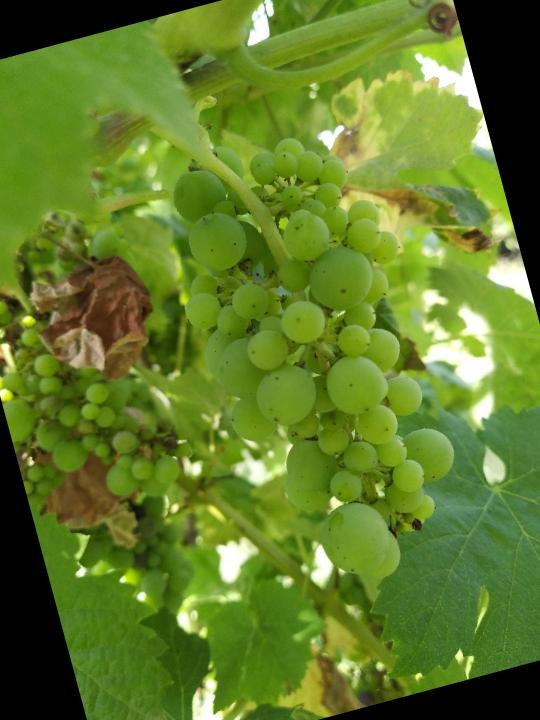grape: (142, 104, 487, 613)
